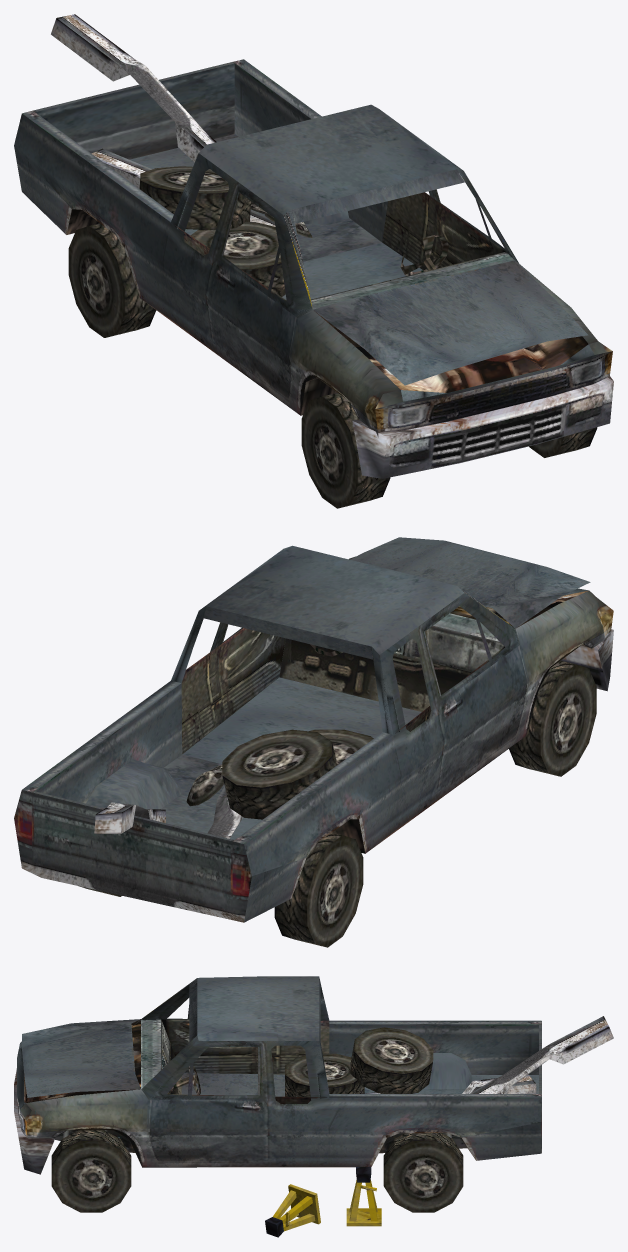
Rendered from gtruck01.glb.
The picture shows the model from 3 angles, top to bottom: view 1: azimuth 30°, elevation 25°; view 2: azimuth 150°, elevation 25°; view 3: azimuth 270°, elevation 25°; orthographic projection. The views are drawn at different scales.
Parts seen in each view (by area): view 1: _gtruck01; view 2: _gtruck01; view 3: _gtruck01.
Boxes of the visible parts, x1,y1,x2,y2 form: _gtruck01: (14, 14, 613, 508); _gtruck01: (14, 537, 613, 947); _gtruck01: (14, 976, 613, 1237).
Bounding box in the file's own units: 2.85 × 2.01 × 6.56.
1 material, 1 textured.
